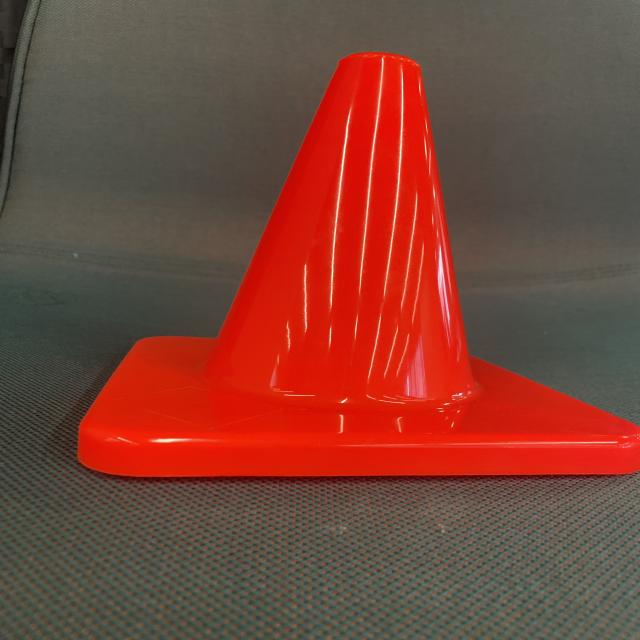Traffic Cone: (80, 56, 638, 480)
